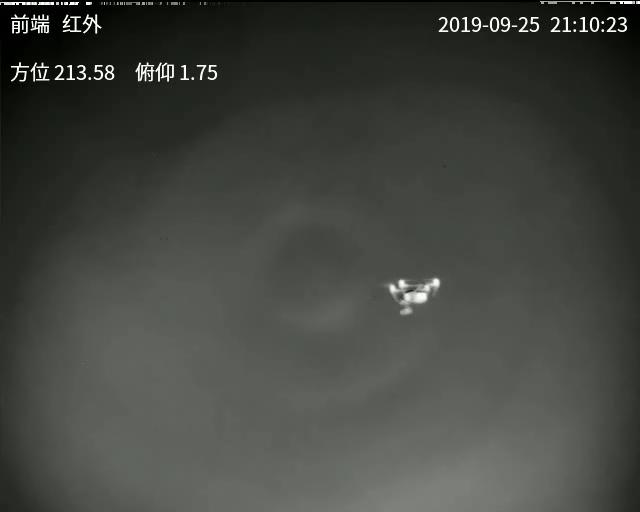uav: (384, 276, 443, 321)
